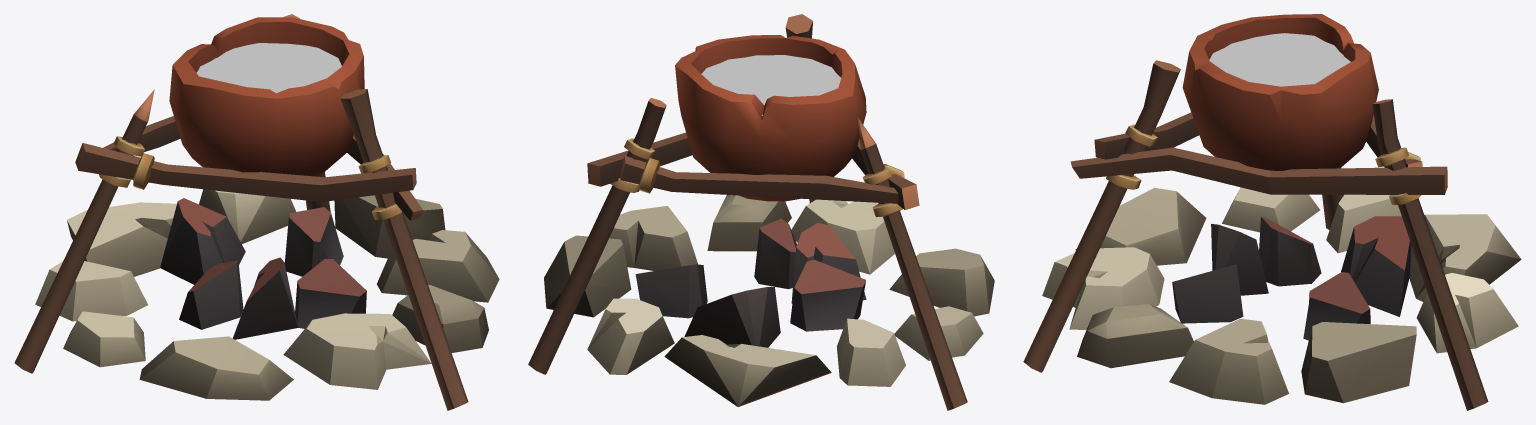
File: Cooking_Fire_1B.fbx
3 renders of one model, left to right at view 1: azimuth 30°, elevation 25°; view 2: azimuth 150°, elevation 25°; view 3: azimuth 270°, elevation 25°, orthographic. The views are drawn at different scales.
Parts seen in each view (by area): view 1: Cooking_Fire_1B; view 2: Cooking_Fire_1B; view 3: Cooking_Fire_1B.
Boxes of the visible parts, bbox=[...] form: Cooking_Fire_1B: bbox=[14, 14, 499, 410]; Cooking_Fire_1B: bbox=[528, 14, 994, 410]; Cooking_Fire_1B: bbox=[1023, 14, 1521, 410].
Size of the model in its own units: 197 by 123 by 190.
